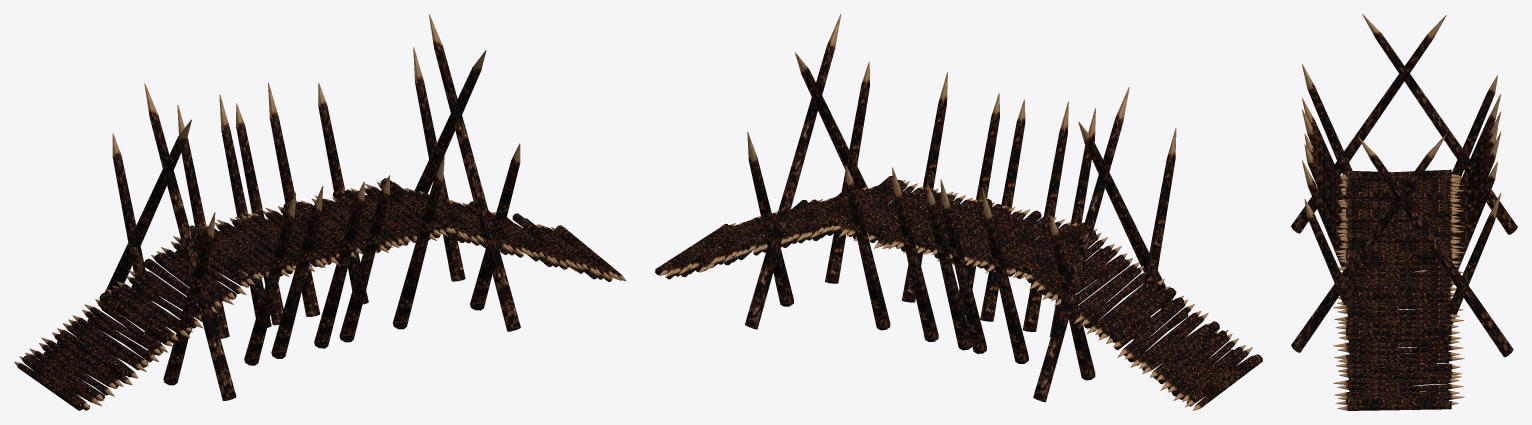
Rendered from OrcBridge.obj.
The picture shows the model from 3 angles, left to right: view 1: azimuth 30°, elevation 25°; view 2: azimuth 150°, elevation 25°; view 3: azimuth 270°, elevation 25°; orthographic projection. The views are drawn at different scales.
Parts seen in each view (by area): view 1: Plane; view 2: Plane; view 3: Plane.
Boxes of the visible parts, box(x1,y1,x2,y2) form: Plane: box(14, 14, 626, 410); Plane: box(655, 14, 1262, 410); Plane: box(1291, 14, 1517, 410).
Bounding box in the file's own units: 1.41 × 0.6503 × 0.5878.
Materials: 1 (1 with a texture image).
